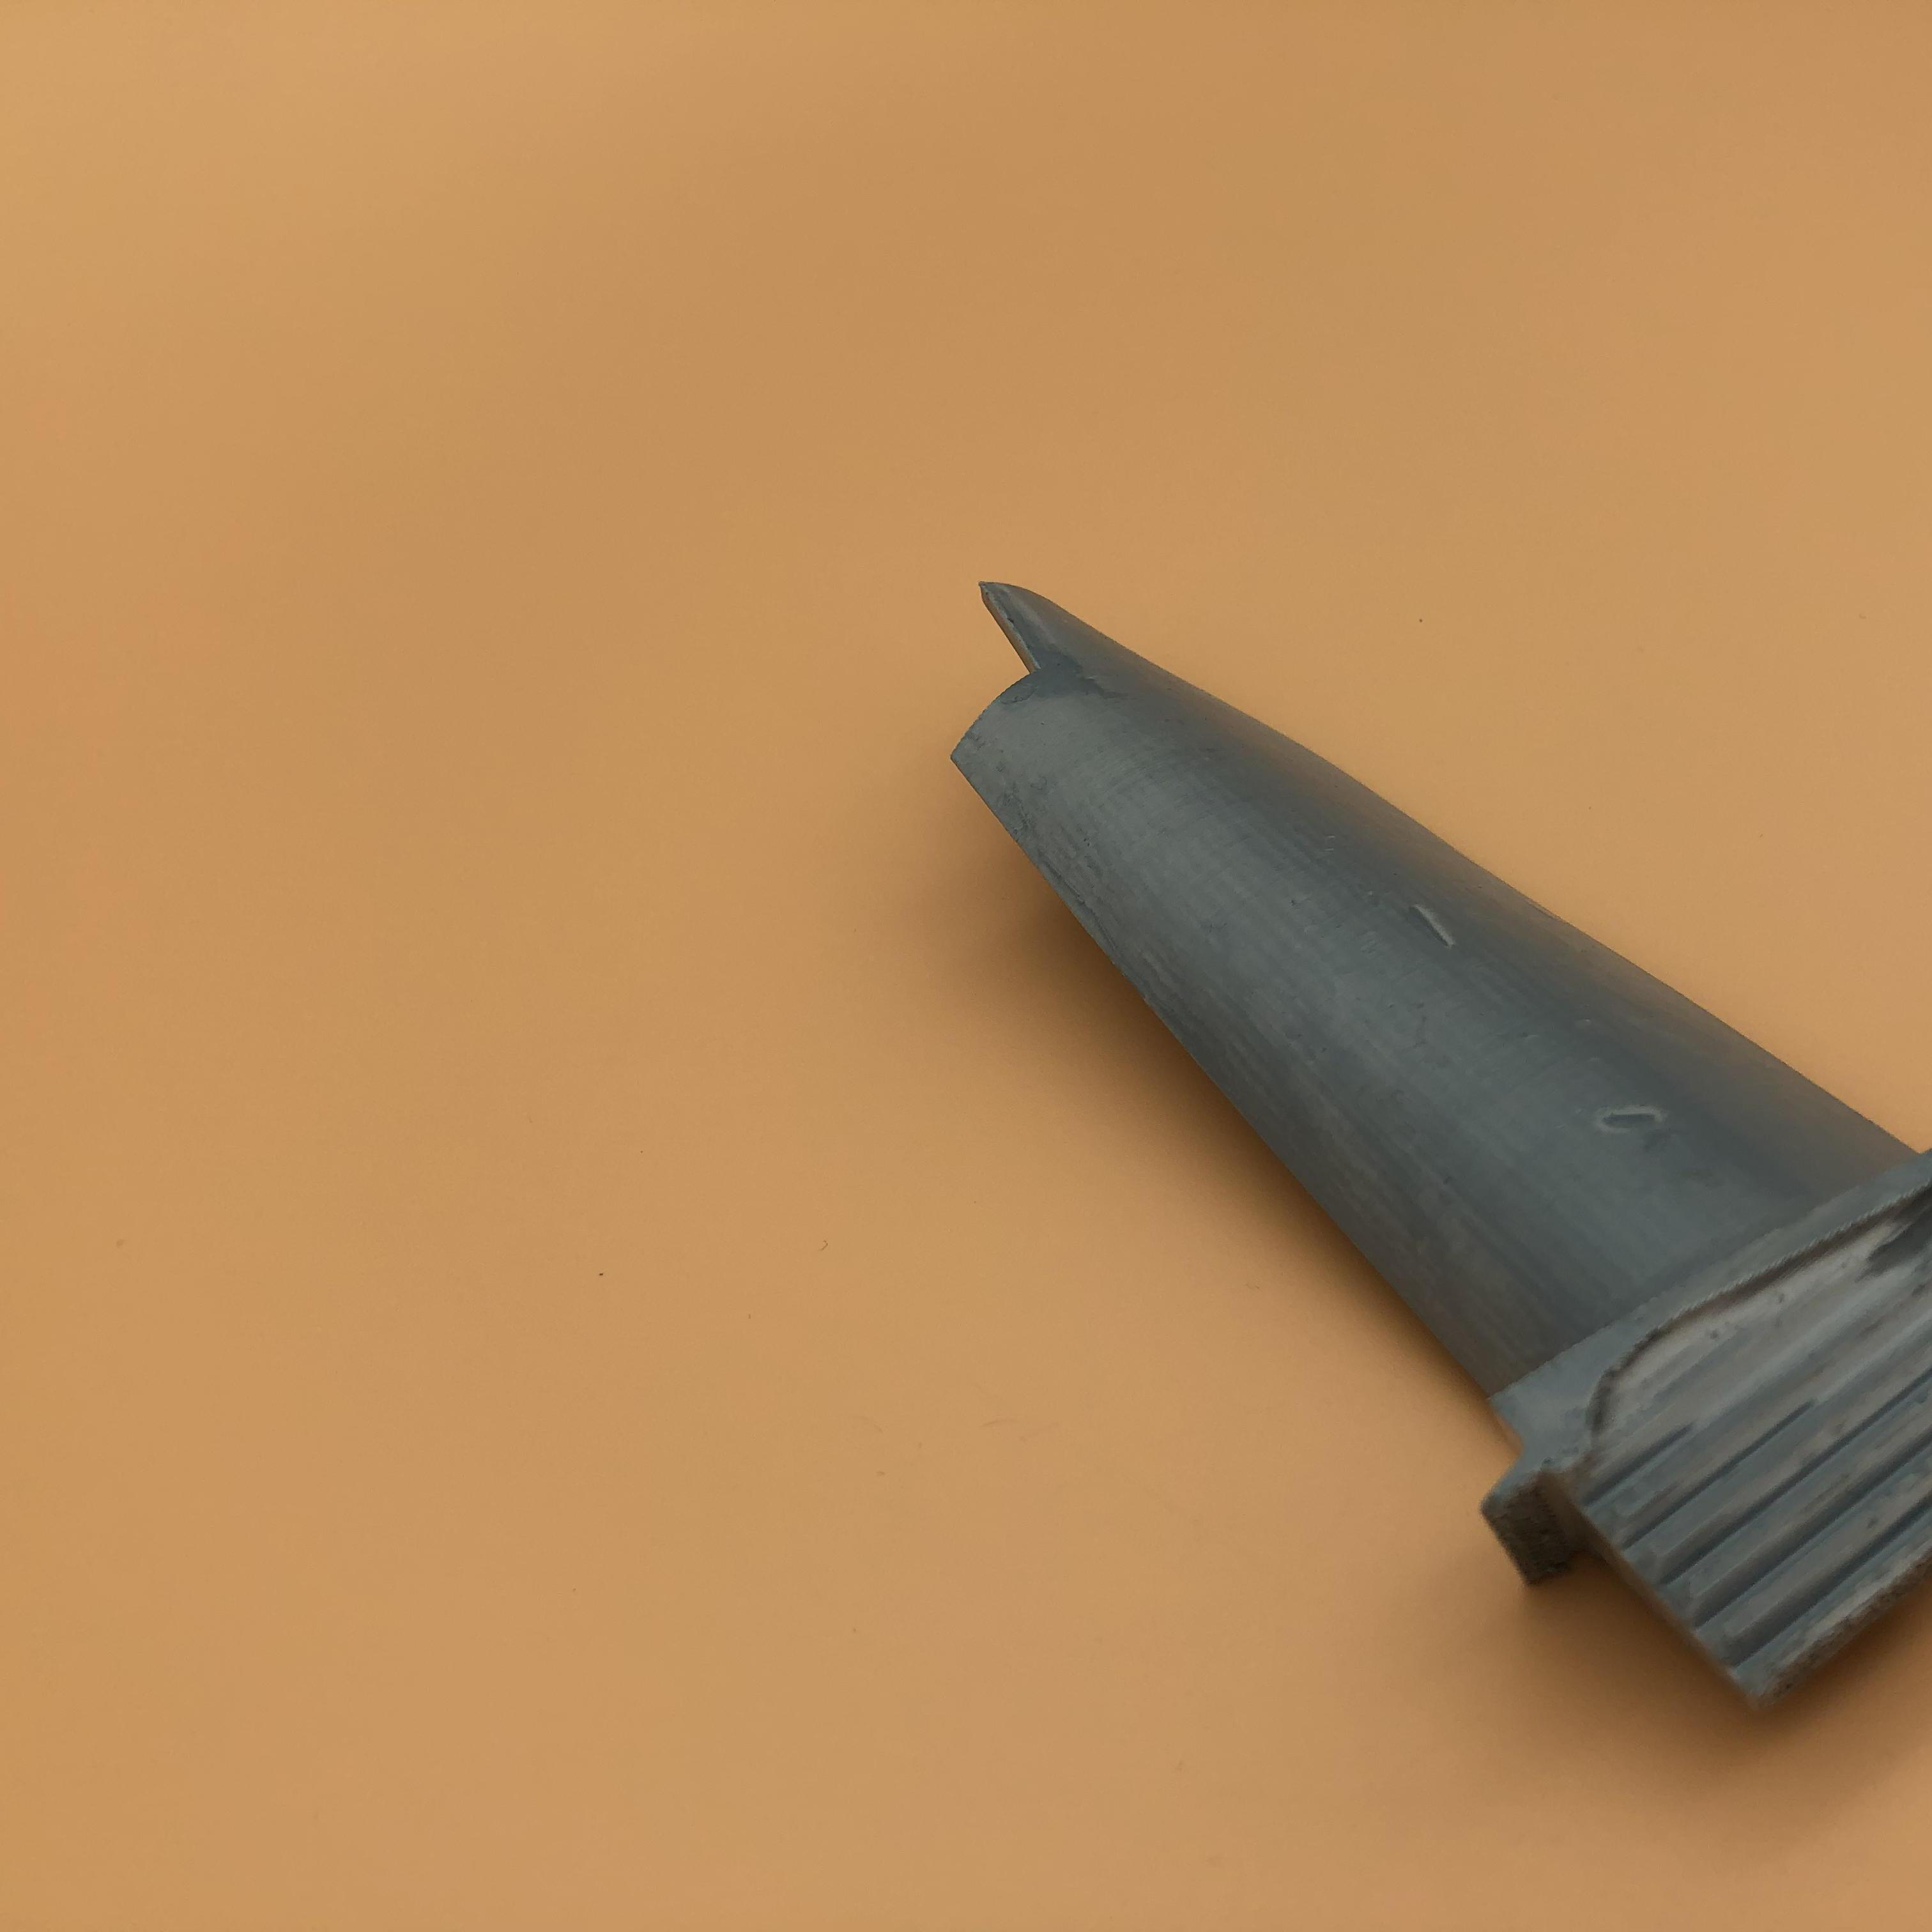fracture: (961, 591, 1060, 793)
